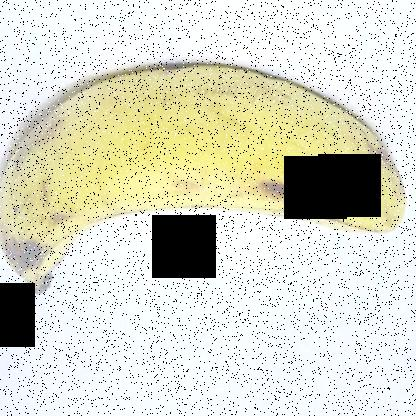ripe: (1, 63, 412, 289)
